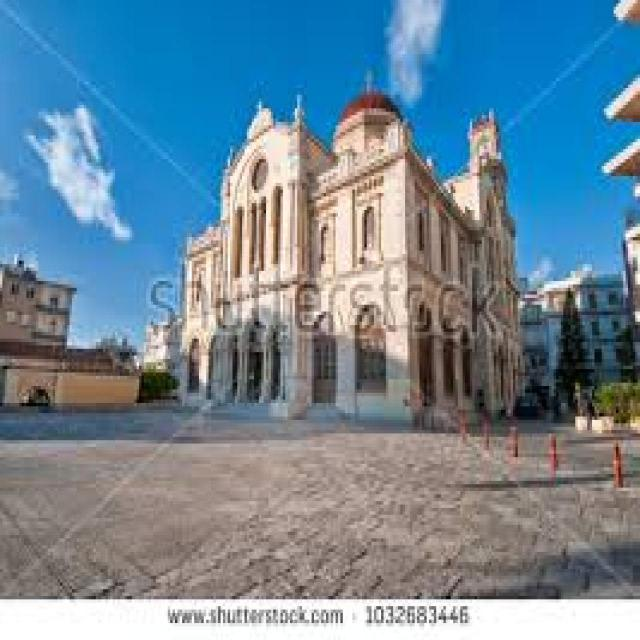Agios Minas: (166, 78, 526, 432)
